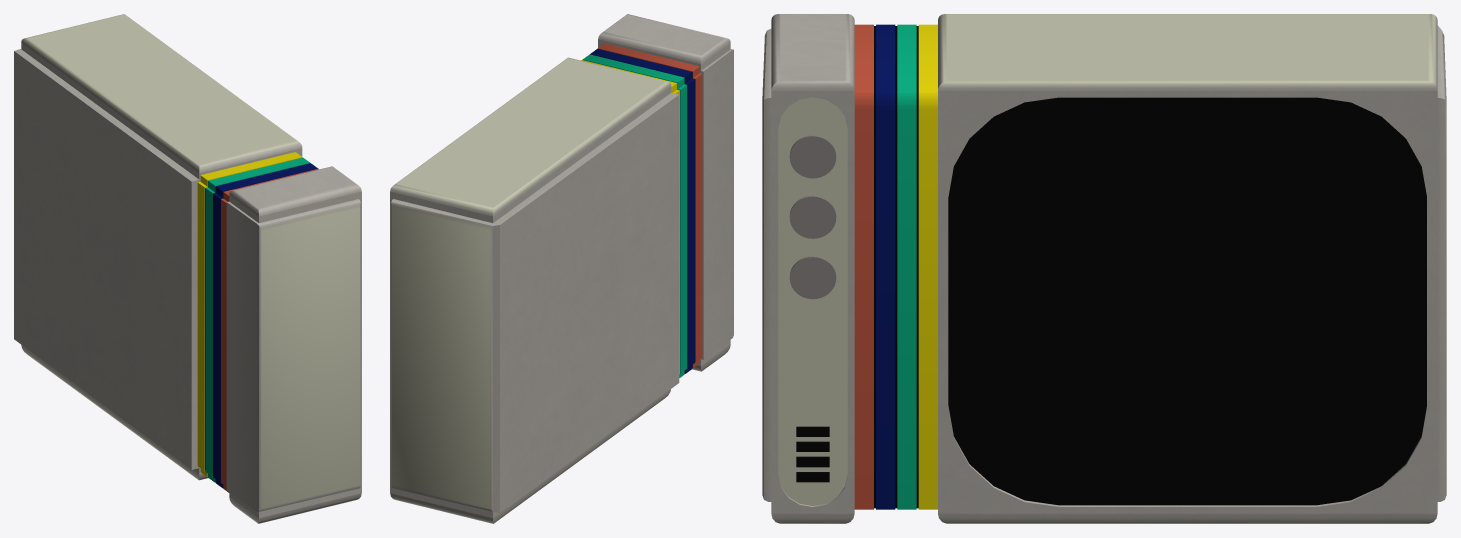
The picture shows the model from 3 angles, left to right: view 1: azimuth 30°, elevation 25°; view 2: azimuth 150°, elevation 25°; view 3: azimuth 270°, elevation 25°; orthographic projection. The views are drawn at different scales.
Parts seen in each view (by area): view 1: bake; view 2: bake; view 3: bake.
Boxes of the visible parts, left/top/right/bottom form: bake: left=14, top=14, right=361, bottom=523; bake: left=390, top=14, right=733, bottom=523; bake: left=762, top=14, right=1446, bottom=523.
Bounding box in the file's own units: 108 × 294 × 411.
1 material, 1 textured.
